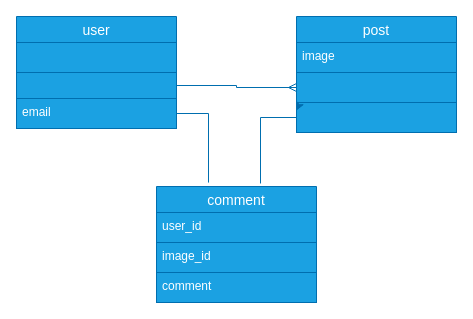
The diagram is 473 pixels wide and 319 high, and some of its shapes have lost their labels. The shapes that lost their labels are listed below. From the top down, each one's centre as x and y in pixels, then its label:
At (96,57): "nickname".
At (96,85): "passward".
At (376,87): "category".
At (376,117): "place".
